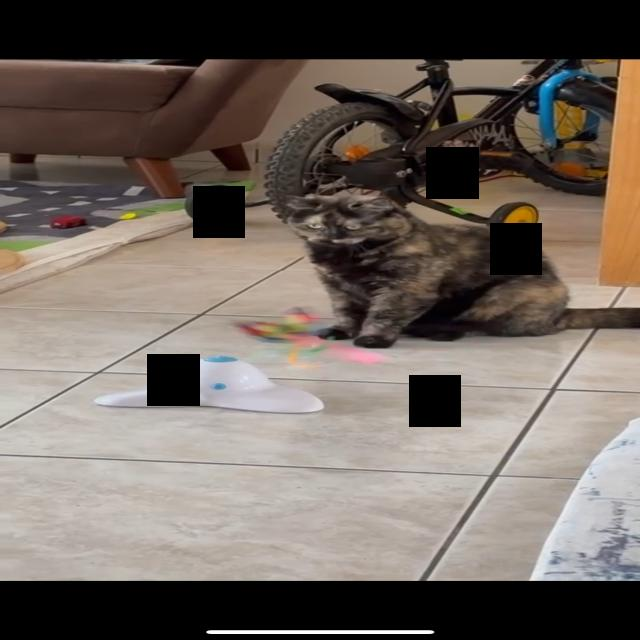authorized: (278, 190, 638, 348)
